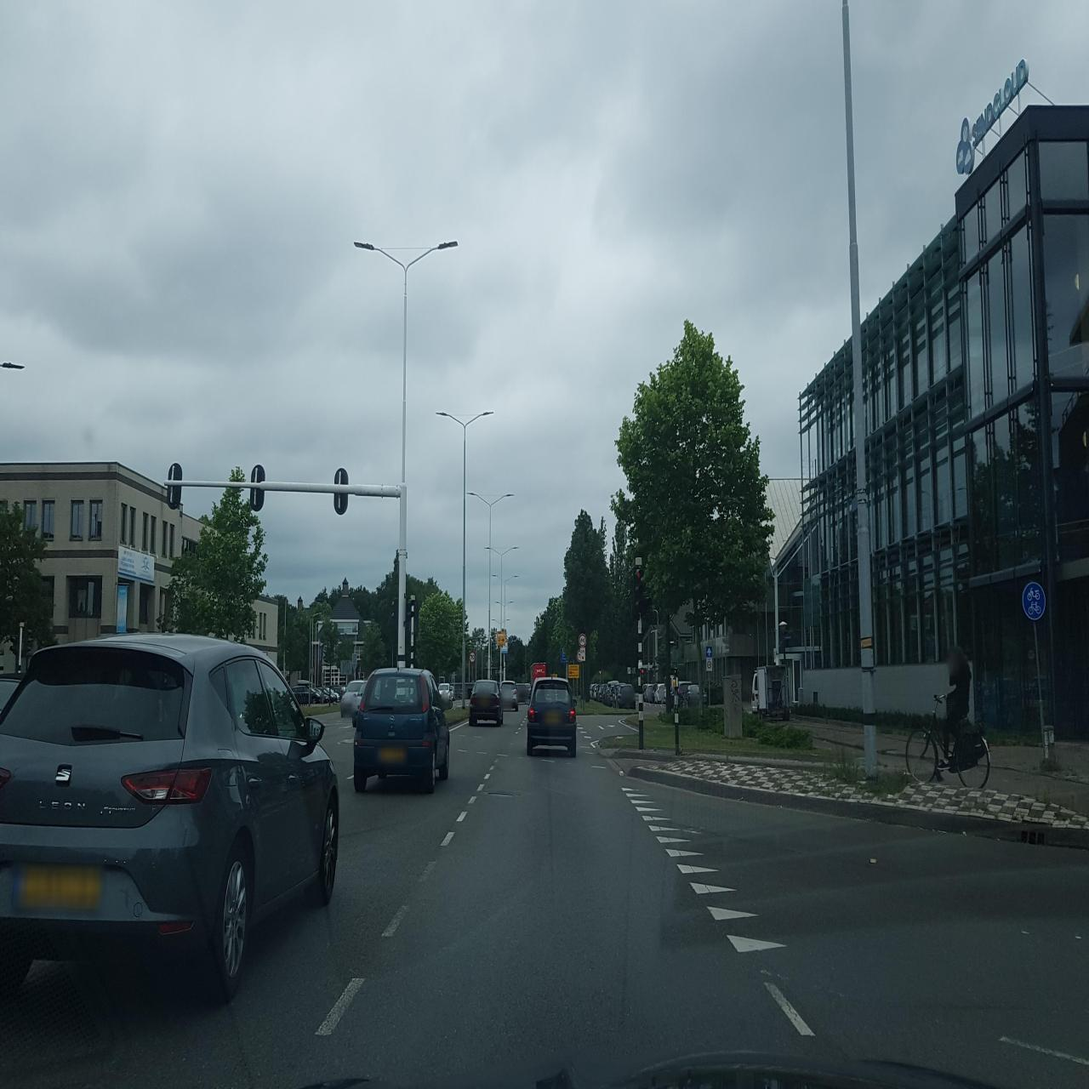bicycle: (902, 686, 993, 797)
